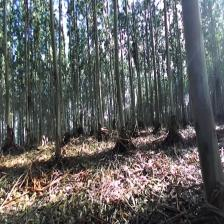trunk: (182, 5, 224, 208), (113, 4, 129, 144), (49, 3, 63, 161), (164, 5, 178, 136), (2, 8, 14, 144)
